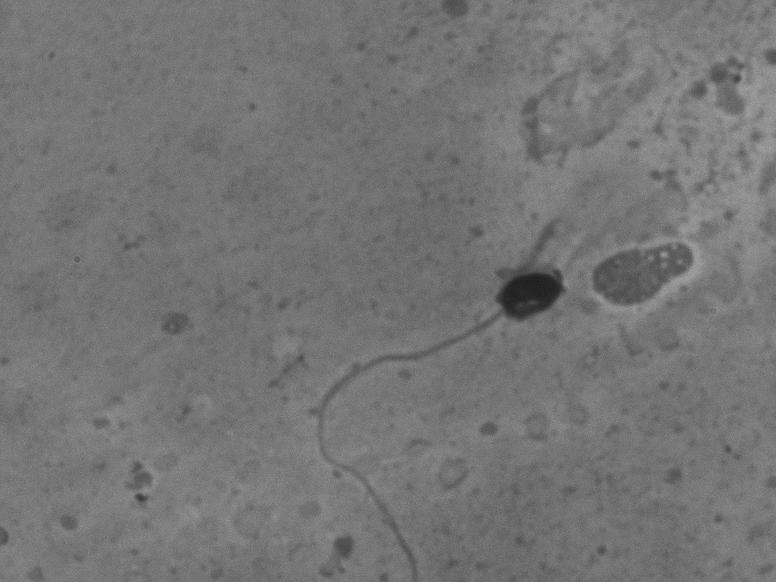Abnormal: (292, 255, 578, 572)
